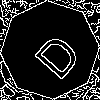D: (25, 25, 84, 82)
